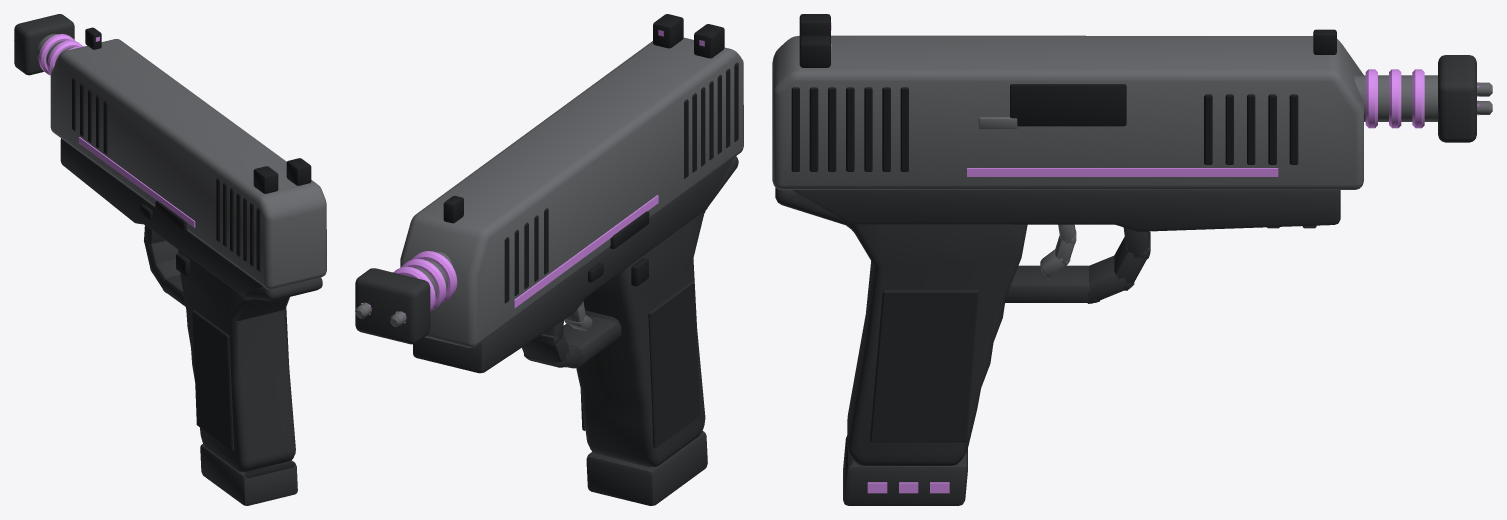
File: ShockPistol.fbx
3 views of the same model, side by side, from view 1: azimuth 30°, elevation 25°; view 2: azimuth 150°, elevation 25°; view 3: azimuth 270°, elevation 25° (orthographic). The views are drawn at different scales.
Visible parts, largest first — view 1: Slide, Grip, Frame, Grip Texture Panel -1, Battery Pack, Electrode Head, Slide Energy Stripe -1, Trigger Guard 2, Rear Sight Post 1, Rear Sight Post -1, Trigger Guard 3, Emitter Coil Ring 3 (+4 smaller); view 2: Slide, Grip, Frame, Grip Texture Panel -1, Battery Pack, Electrode Head, Trigger Guard 4, Slide Energy Stripe -1, Trigger Guard 2, Rear Sight Post -1, Rear Sight Post 1, Emitter Coil Ring 1 (+4 smaller); view 3: Slide, Grip, Frame, Grip Texture Panel 1, Ejection Port, Battery Pack, Electrode Head, Slide Energy Stripe 1, Trigger Guard 4, Emitter Barrel, Trigger Guard 3, Rear Sight Post 1 (+2 smaller).
Boxes of the visible parts, <box> form: Slide: <box>50,39,326,289</box>; Grip: <box>178,250,322,472</box>; Frame: <box>60,138,263,295</box>; Grip Texture Panel -1: <box>192,310,234,451</box>; Battery Pack: <box>200,444,297,505</box>; Electrode Head: <box>14,14,74,75</box>; Slide Energy Stripe -1: <box>78,137,195,227</box>; Trigger Guard 2: <box>144,238,178,272</box>; Rear Sight Post 1: <box>286,158,311,185</box>; Rear Sight Post -1: <box>253,166,278,193</box>; Trigger Guard 3: <box>150,259,180,293</box>; Emitter Coil Ring 3: <box>38,34,75,74</box>; Slide: <box>400,37,743,347</box>; Grip: <box>576,156,738,466</box>; Frame: <box>413,158,732,373</box>; Grip Texture Panel -1: <box>648,281,700,447</box>; Battery Pack: <box>586,432,707,505</box>; Electrode Head: <box>355,268,430,344</box>; Trigger Guard 4: <box>563,314,621,368</box>; Slide Energy Stripe -1: <box>514,195,658,307</box>; Trigger Guard 2: <box>522,332,569,367</box>; Rear Sight Post -1: <box>694,24,724,58</box>; Rear Sight Post 1: <box>653,14,683,48</box>; Emitter Coil Ring 1: <box>411,251,457,302</box>; Slide: <box>772,35,1363,189</box>; Grip: <box>775,187,1027,465</box>; Frame: <box>792,190,1340,231</box>; Grip Texture Panel 1: <box>870,290,978,442</box>; Ejection Port: <box>1010,84,1126,126</box>; Battery Pack: <box>843,438,967,505</box>; Electrode Head: <box>1438,55,1476,142</box>; Slide Energy Stripe 1: <box>967,168,1278,176</box>; Trigger Guard 4: <box>1005,265,1099,302</box>; Emitter Barrel: <box>1354,75,1437,121</box>; Trigger Guard 3: <box>1086,256,1134,303</box>; Rear Sight Post 1: <box>799,35,830,67</box>.
Size of the model in its own units: 0.134 by 0.6545 by 0.925.
